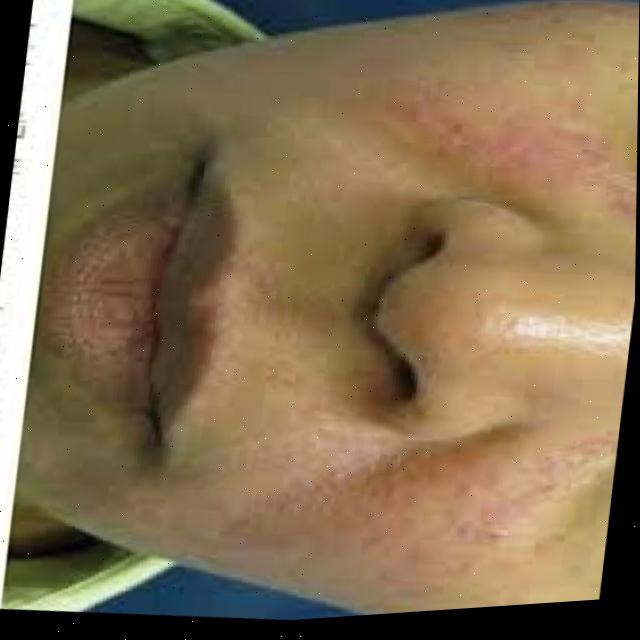Rosacea: (330, 406, 619, 615), (373, 63, 638, 254)
